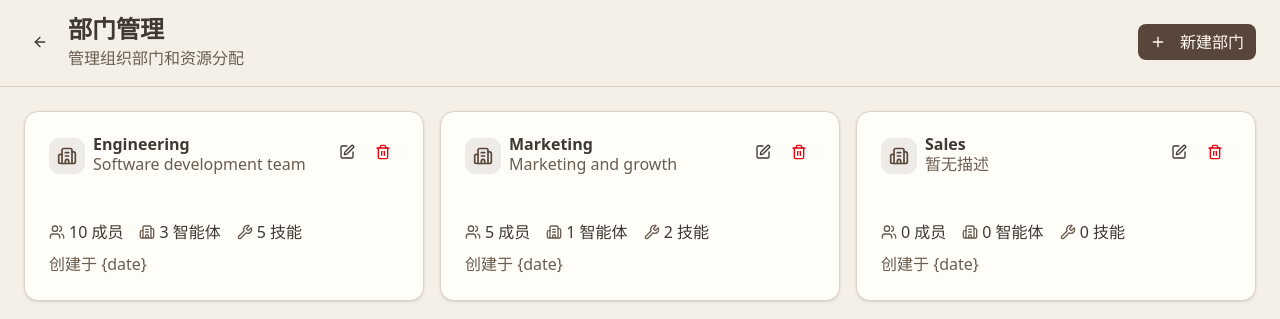
Test: DepartmentsPage › disables delete button while deletion is in progress
Expected: the element with test id "department-list" is shown, [24, 111, 1256, 301]
Click the button with test id "department-delete-button" at (383, 152), box [367, 136, 399, 168]
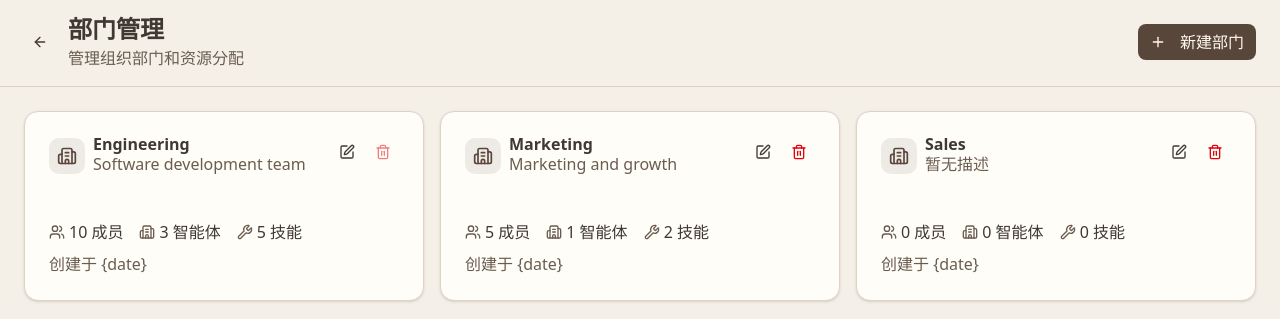
Now the button with test id "department-delete-button" is disabled, box [367, 136, 399, 168]
